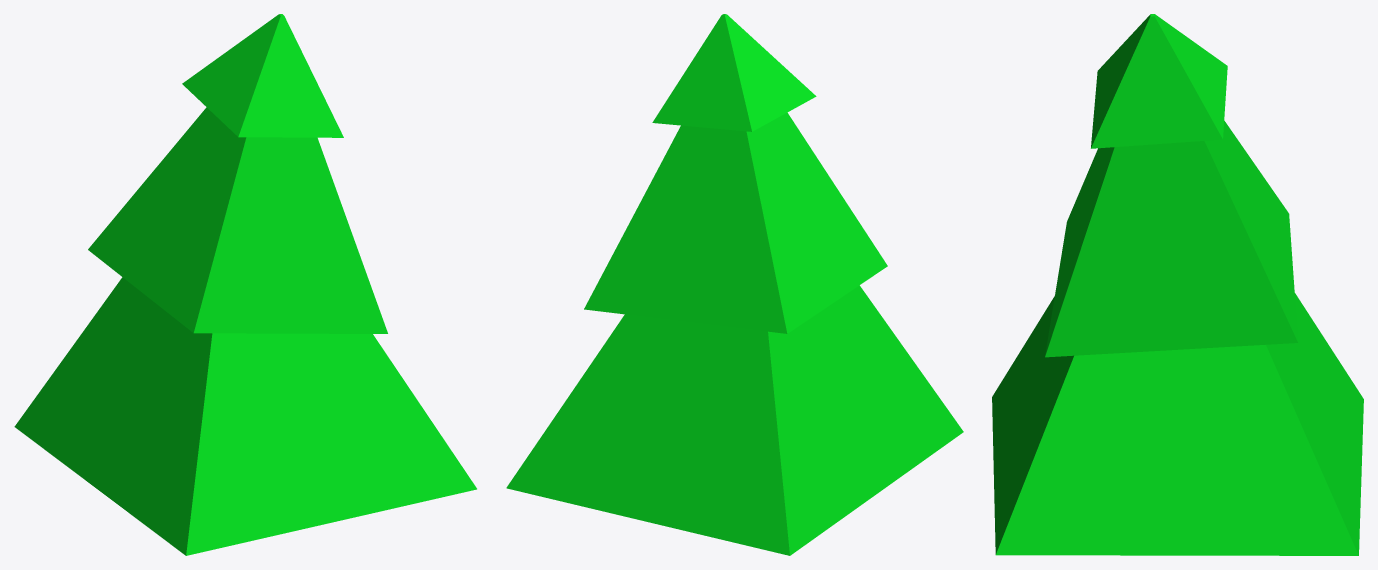
The model's file is tree1.fbx.
3 renders of one model, left to right at view 1: azimuth 30°, elevation 25°; view 2: azimuth 150°, elevation 25°; view 3: azimuth 270°, elevation 25°, orthographic. The views are drawn at different scales.
Visible parts, largest first — view 1: Cube; view 2: Cube; view 3: Cube.
Part boxes in pixels (box(x1,y1,x2,y2)): Cube: box(14, 14, 476, 555); Cube: box(506, 14, 963, 555); Cube: box(992, 14, 1363, 555).
Size of the model in its own units: 276 by 398 by 281.
